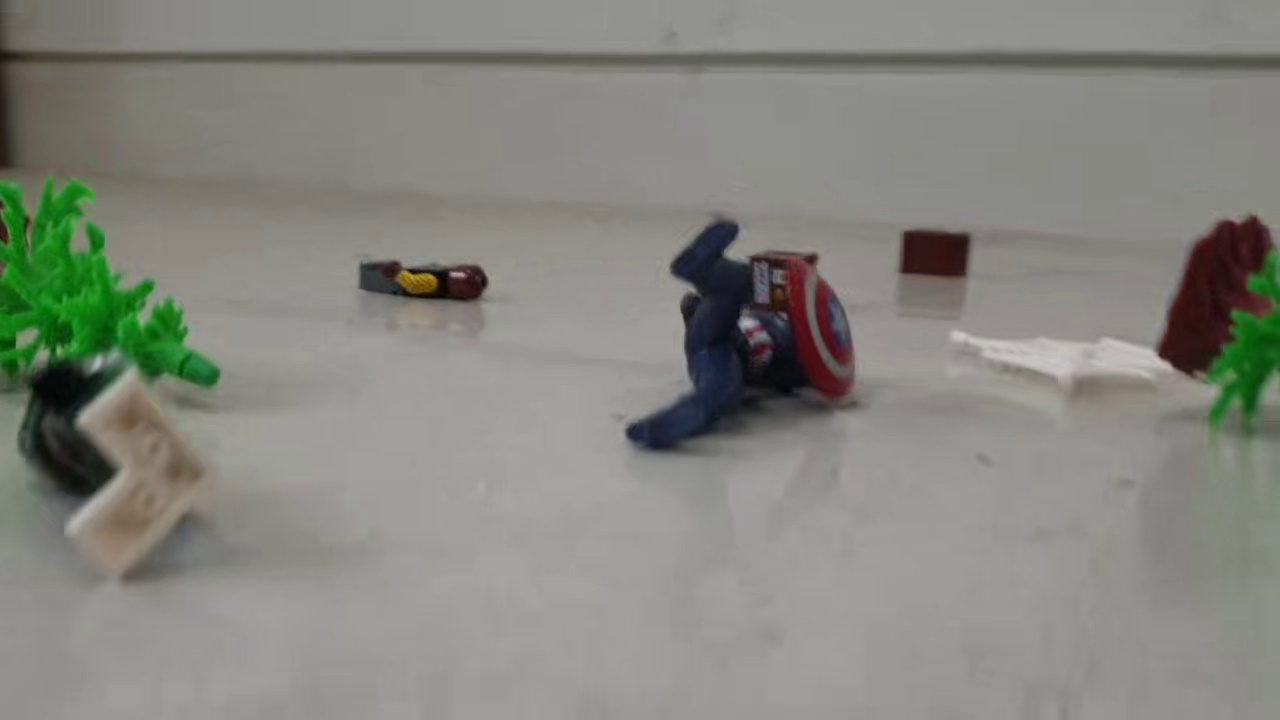box: (894, 226, 975, 280)
people: (622, 216, 860, 455), (17, 359, 214, 580), (359, 256, 489, 311)
tree: (1, 173, 223, 398), (1151, 212, 1280, 441)
web: (946, 328, 1180, 397)
